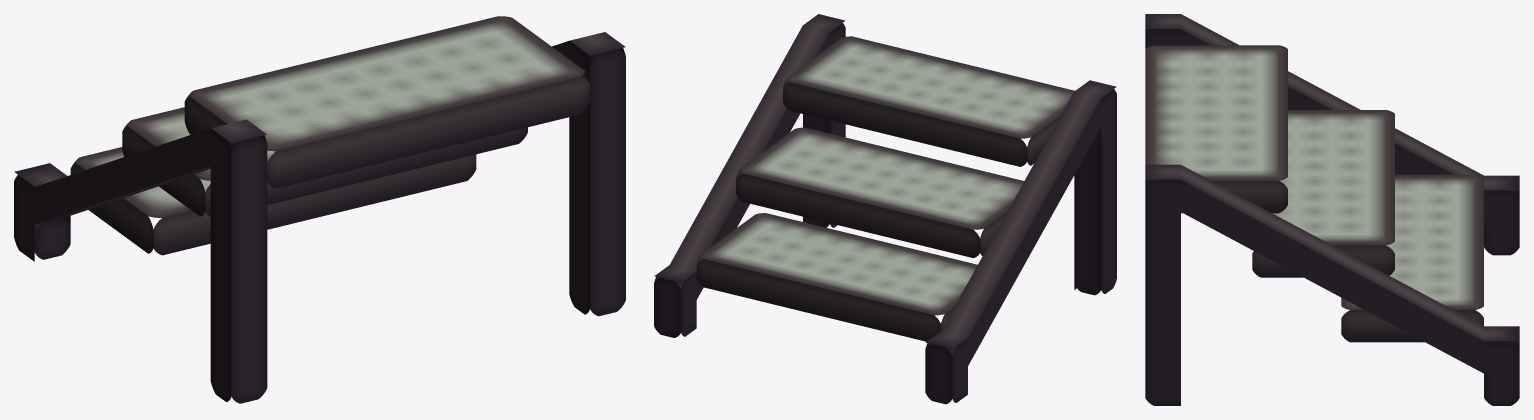
Rendered from stepStool.fbx.
3 views of the same model, side by side, from view 1: azimuth 30°, elevation 25°; view 2: azimuth 150°, elevation 25°; view 3: azimuth 270°, elevation 25° (orthographic). The views are drawn at different scales.
Parts seen in each view (by area): view 1: stepStool; view 2: stepStool; view 3: stepStool.
Boxes of the visible parts, bbox=[...] form: stepStool: bbox=[14, 16, 625, 403]; stepStool: bbox=[654, 14, 1116, 404]; stepStool: bbox=[1145, 14, 1519, 405].
Size of the model in its own units: 138 by 87.5 by 131.
